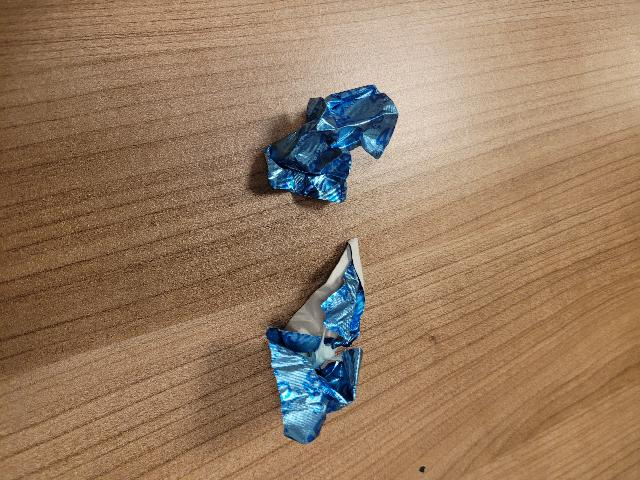Kagit: (257, 234, 383, 448), (259, 72, 407, 219)
